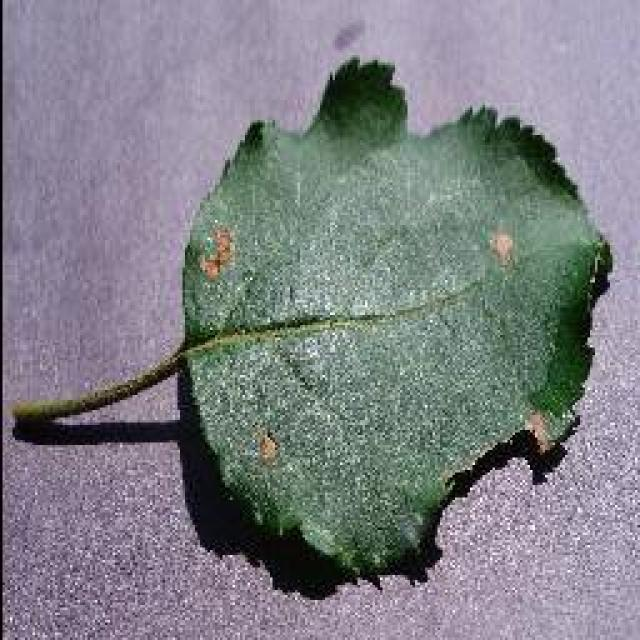Black_rot: (10, 52, 612, 582)
